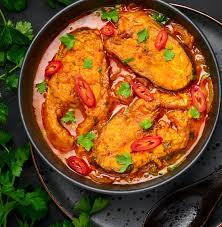Fish Curry: (29, 6, 200, 191)
